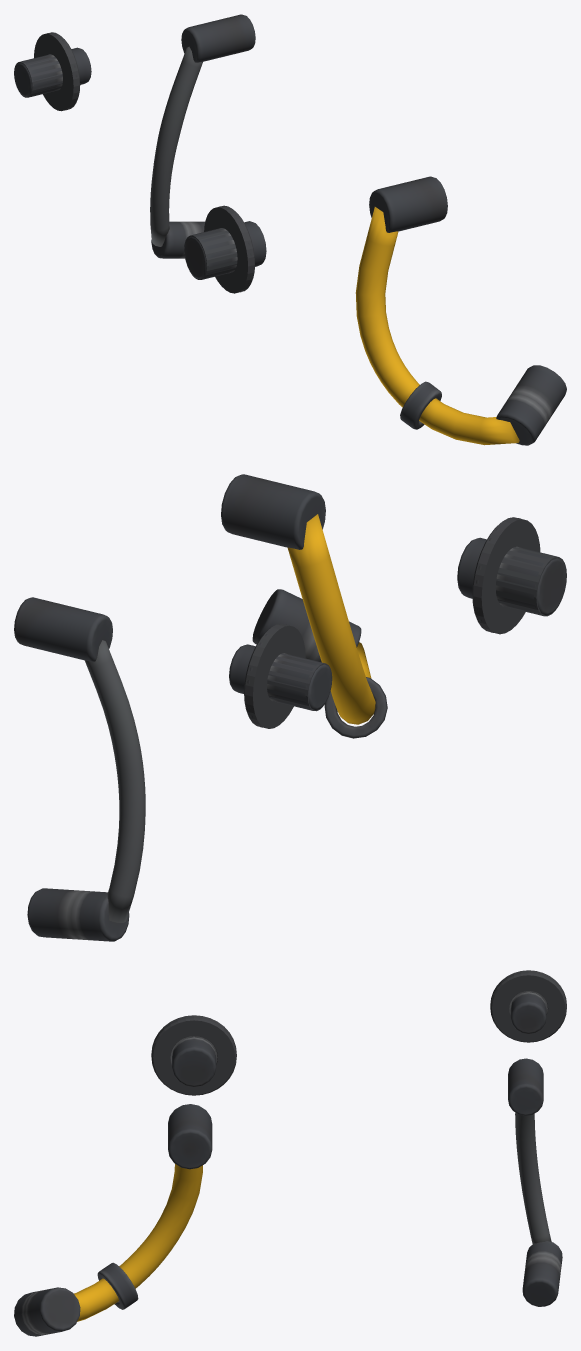
Rendered from UNIT07_ReplacementKit_Cables.fbx.
3 views of the same model, one above another, from view 1: azimuth 30°, elevation 25°; view 2: azimuth 150°, elevation 25°; view 3: azimuth 270°, elevation 25° (orthographic). The views are drawn at different scales.
Parts seen in each view (by area): view 1: ExternalCable_L_Unplugged, AuxCable_L_Unplugged, ExternalCable_L_FreePlug, Calib_ExternalCable_L_PlugEngine, Calib_AuxCable_L_PlugEngine, ExternalCable_L_SocketFlange, Calib_ExternalCable_L_PlugBody, AuxCable_L_SocketFlange, Calib_AuxCable_L_PlugBody, AuxCable_L_FreePlug, ExternalCable_L_SocketInsert, ExternalCable_L_Clip_Unplugged (+1 smaller); view 2: ExternalCable_L_Unplugged, AuxCable_L_Unplugged, Calib_ExternalCable_L_PlugEngine, Calib_AuxCable_L_PlugEngine, AuxCable_L_FreePlug, ExternalCable_L_SocketFlange, Calib_ExternalCable_L_PlugBody, AuxCable_L_SocketFlange, Calib_AuxCable_L_PlugBody, ExternalCable_L_FreePlug, ExternalCable_L_SocketInsert, ExternalCable_L_Clip_Unplugged (+1 smaller); view 3: ExternalCable_L_Unplugged, ExternalCable_L_SocketFlange, AuxCable_L_SocketFlange, ExternalCable_L_FreePlug, AuxCable_L_Unplugged, Calib_ExternalCable_L_PlugEngine, AuxCable_L_FreePlug, Calib_ExternalCable_L_PlugBody, Calib_AuxCable_L_PlugEngine, Calib_AuxCable_L_PlugBody, ExternalCable_L_Clip_Unplugged.
Part boxes in pixels (x1=…): ExternalCable_L_Unplugged: x1=355, y1=207, x2=519, y2=445; AuxCable_L_Unplugged: x1=150, y1=46, x2=202, y2=246; ExternalCable_L_FreePlug: x1=496, y1=365, x2=566, y2=445; Calib_ExternalCable_L_PlugEngine: x1=369, y1=176, x2=447, y2=232; Calib_AuxCable_L_PlugEngine: x1=181, y1=14, x2=255, y2=62; ExternalCable_L_SocketFlange: x1=204, y1=205, x2=254, y2=293; Calib_ExternalCable_L_PlugBody: x1=184, y1=206, x2=266, y2=292; AuxCable_L_SocketFlange: x1=34, y1=32, x2=80, y2=111; Calib_AuxCable_L_PlugBody: x1=14, y1=32, x2=91, y2=110; AuxCable_L_FreePlug: x1=151, y1=221, x2=205, y2=258; ExternalCable_L_SocketInsert: x1=184, y1=228, x2=237, y2=279; ExternalCable_L_Clip_Unplugged: x1=400, y1=381, x2=441, y2=429; ExternalCable_L_Unplugged: x1=287, y1=514, x2=375, y2=724; AuxCable_L_Unplugged: x1=84, y1=640, x2=145, y2=922; Calib_ExternalCable_L_PlugEngine: x1=221, y1=474, x2=325, y2=549; Calib_AuxCable_L_PlugEngine: x1=14, y1=597, x2=112, y2=661; AuxCable_L_FreePlug: x1=27, y1=888, x2=129, y2=941; ExternalCable_L_SocketFlange: x1=472, y1=517, x2=540, y2=634; Calib_ExternalCable_L_PlugBody: x1=457, y1=518, x2=566, y2=632; AuxCable_L_SocketFlange: x1=244, y1=623, x2=305, y2=728; Calib_AuxCable_L_PlugBody: x1=229, y1=624, x2=331, y2=727; ExternalCable_L_FreePlug: x1=252, y1=589, x2=361, y2=662; ExternalCable_L_SocketInsert: x1=496, y1=547, x2=566, y2=616; ExternalCable_L_Clip_Unplugged: x1=324, y1=677, x2=387, y2=738; ExternalCable_L_Unplugged: x1=74, y1=1164, x2=202, y2=1321; ExternalCable_L_SocketFlange: x1=151, y1=1015, x2=236, y2=1095; AuxCable_L_SocketFlange: x1=490, y1=970, x2=566, y2=1042; ExternalCable_L_FreePlug: x1=14, y1=1287, x2=80, y2=1336; AuxCable_L_Unplugged: x1=515, y1=1112, x2=551, y2=1243; Calib_ExternalCable_L_PlugEngine: x1=168, y1=1104, x2=212, y2=1169; AuxCable_L_FreePlug: x1=522, y1=1241, x2=562, y2=1306; Calib_ExternalCable_L_PlugBody: x1=152, y1=1018, x2=235, y2=1086; Calib_AuxCable_L_PlugEngine: x1=508, y1=1058, x2=543, y2=1115; Calib_AuxCable_L_PlugBody: x1=491, y1=973, x2=565, y2=1033; ExternalCable_L_Clip_Unplugged: x1=97, y1=1262, x2=138, y2=1309.
Bounding box in the file's own units: 0.1215 × 0.108 × 0.2033.
